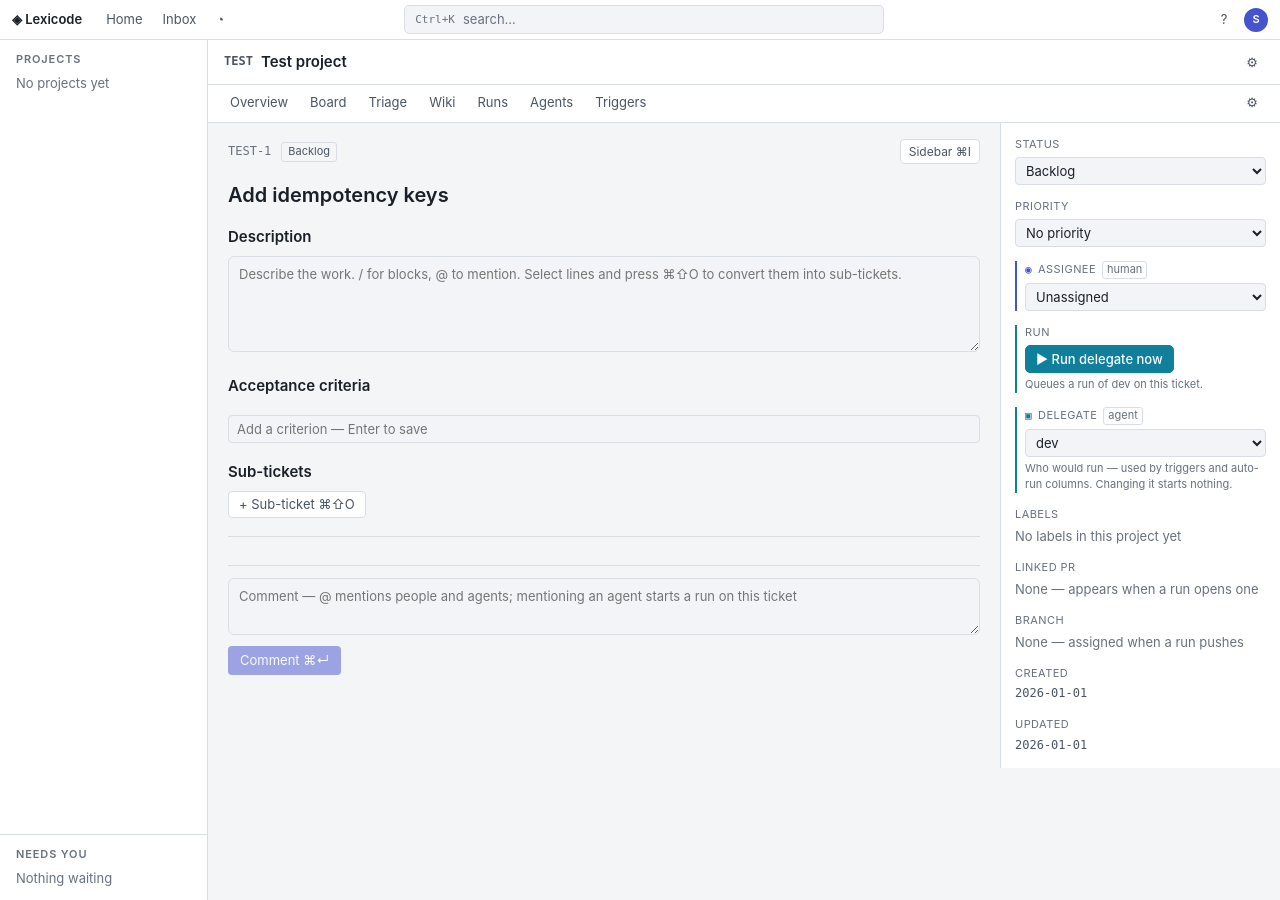
the ticket's Run button (UI spec §5.3, §5.4 sidebar) › surfaces a refusal's detail inline instead of failing silently
The image size is (1280, 900).
Click the button "▶ Run delegate now". click: (1099, 359)
box: x1=1025 y1=345 x2=1174 y2=373
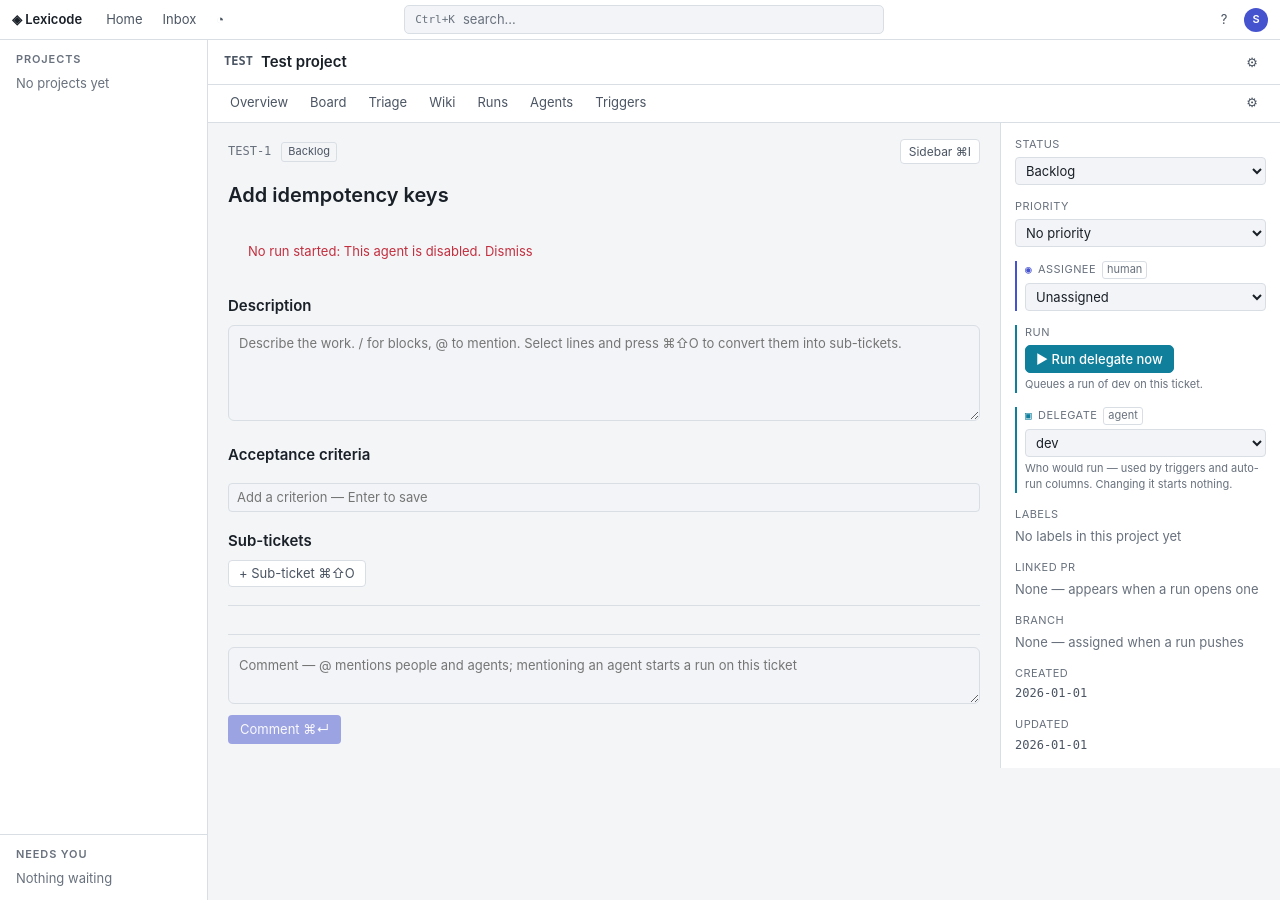
Expected: the message "No run started: This agent is disabled. Dismiss" is shown, x1=248 y1=242 x2=533 y2=261
